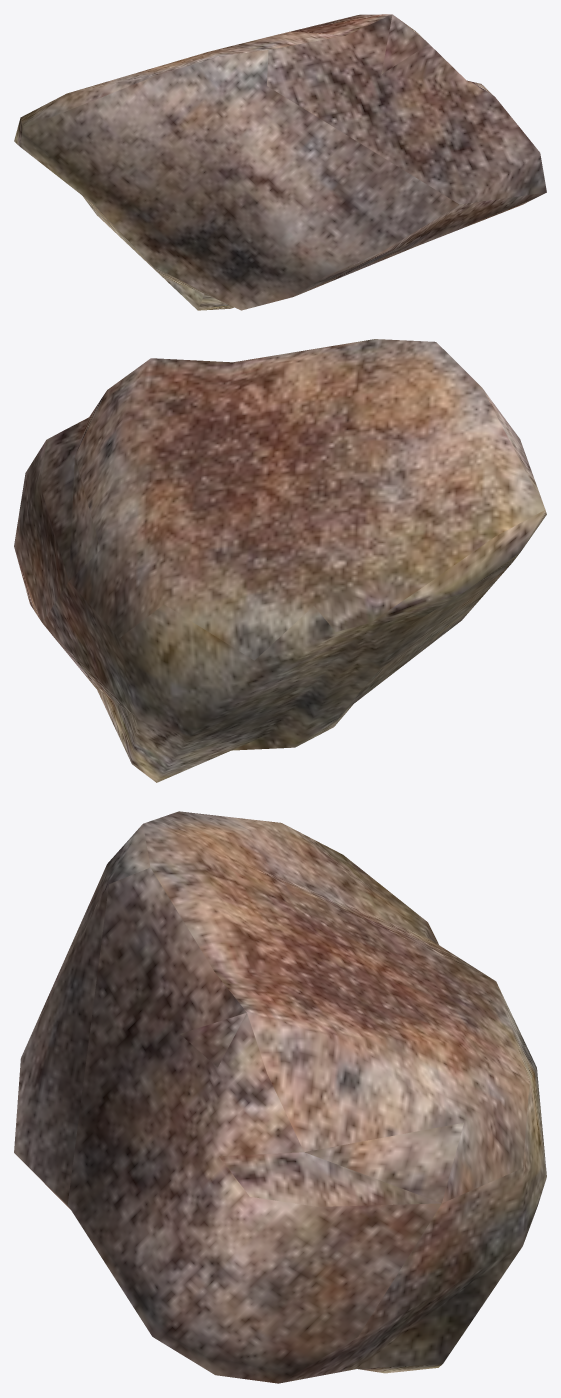
The model's file is rock018.glb.
3 views of the same model, one above another, from view 1: azimuth 30°, elevation 25°; view 2: azimuth 150°, elevation 25°; view 3: azimuth 270°, elevation 25° (orthographic). The views are drawn at different scales.
Parts seen in each view (by area): view 1: rock018; view 2: rock018; view 3: rock018.
Boxes of the visible parts, <box> form: rock018: <box>14,14,546,310</box>; rock018: <box>14,339,546,782</box>; rock018: <box>14,811,546,1383</box>.
Size of the model in its own units: 0.9901 by 0.6583 by 0.6979.
Materials: 1 (1 with a texture image).
